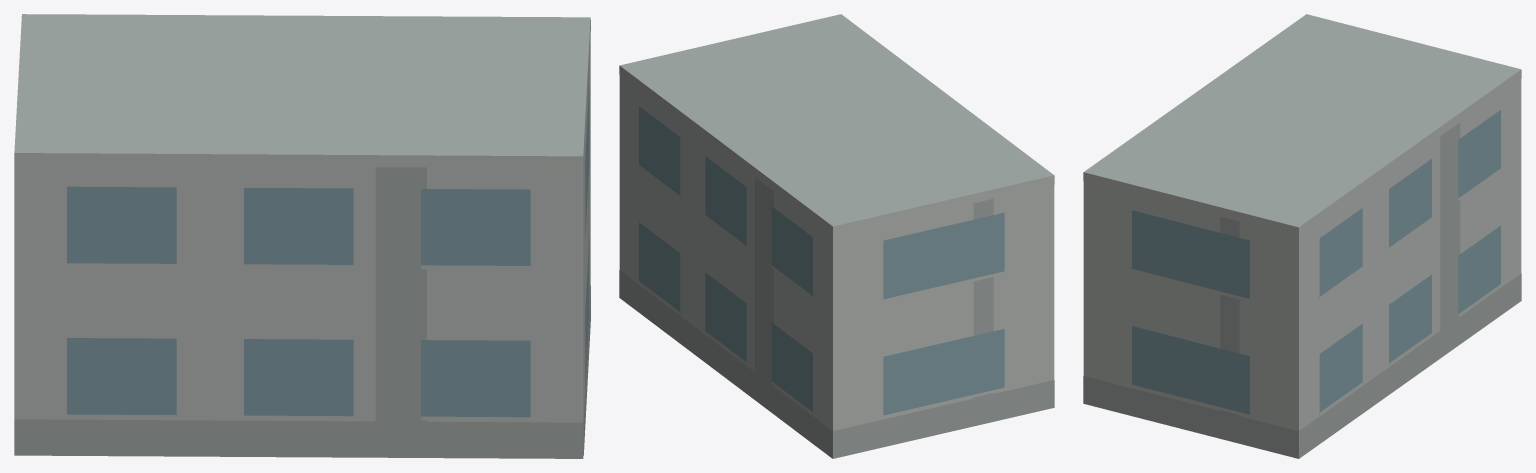
The model's file is survey-upis-32884558.glb.
The picture shows the model from 3 angles, left to right: view 1: azimuth 30°, elevation 25°; view 2: azimuth 150°, elevation 25°; view 3: azimuth 270°, elevation 25°; orthographic projection. The views are drawn at different scales.
Parts seen in each view (by area): view 1: survey-upis-32884558.tmp; view 2: survey-upis-32884558.tmp; view 3: survey-upis-32884558.tmp.
Part boxes in pixels (x1,y1,x2,y2): survey-upis-32884558.tmp: (14, 14, 590, 458); survey-upis-32884558.tmp: (619, 14, 1054, 458); survey-upis-32884558.tmp: (1083, 14, 1521, 458).
Bounding box in the file's own units: 12.06 × 6.1 × 10.47.
